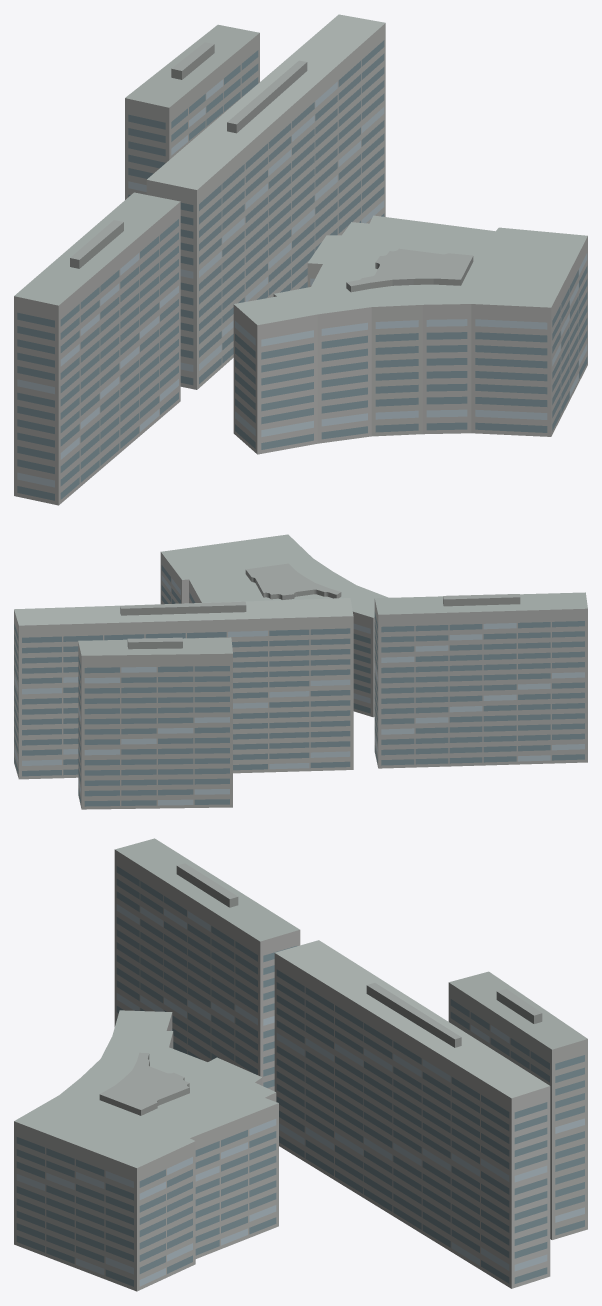
Rendered from apt-a10026729.glb.
3 renders of one model, top to bottom at view 1: azimuth 30°, elevation 25°; view 2: azimuth 150°, elevation 25°; view 3: azimuth 270°, elevation 25°, orthographic. The views are drawn at different scales.
Parts seen in each view (by area): view 1: apt-a10026729; view 2: apt-a10026729; view 3: apt-a10026729.
Boxes of the visible parts, x1,y1,x2,y2 form: apt-a10026729: [14, 14, 587, 505]; apt-a10026729: [14, 534, 587, 809]; apt-a10026729: [14, 838, 587, 1291].
Size of the model in its own units: 135 by 47.81 by 125.
